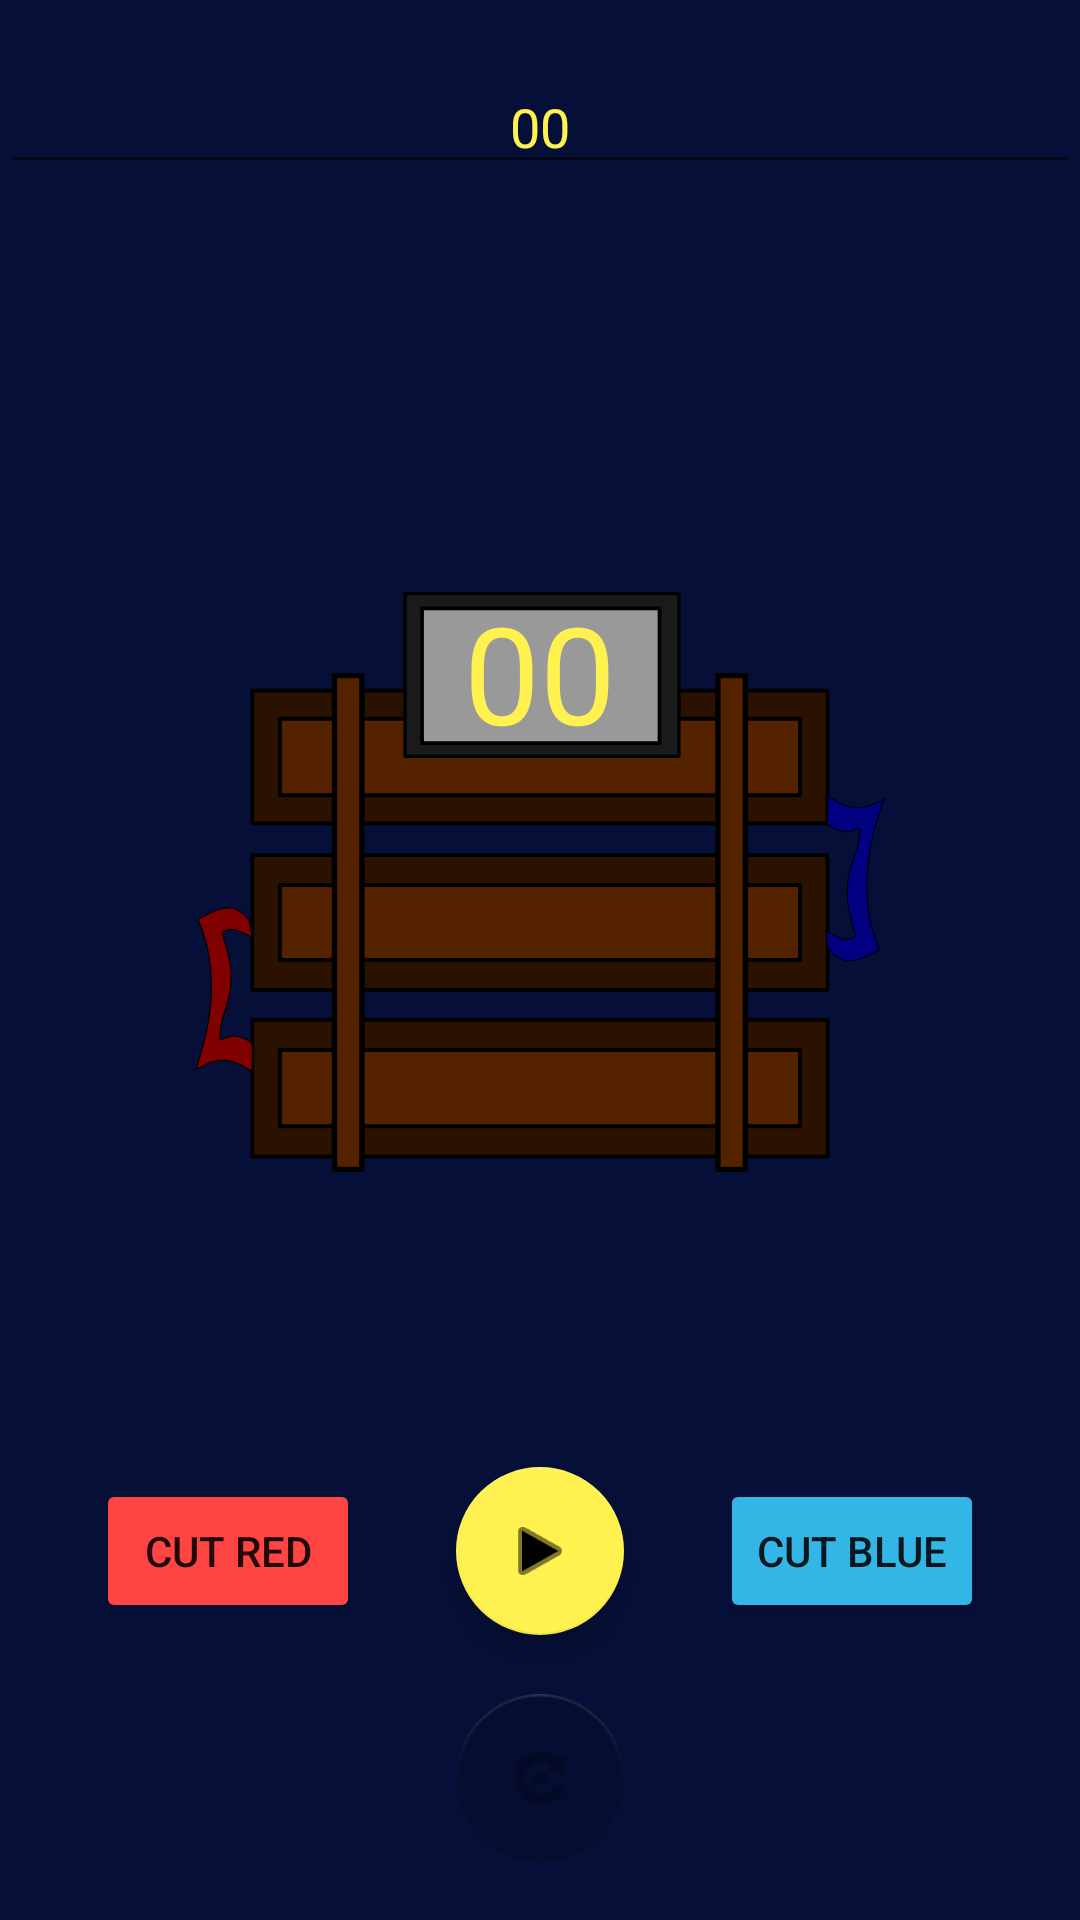

Screen size 1080*1920. Icon name, then its box in pixels as (x1, y1, x2, y2):
play: (456, 1467, 624, 1635)
